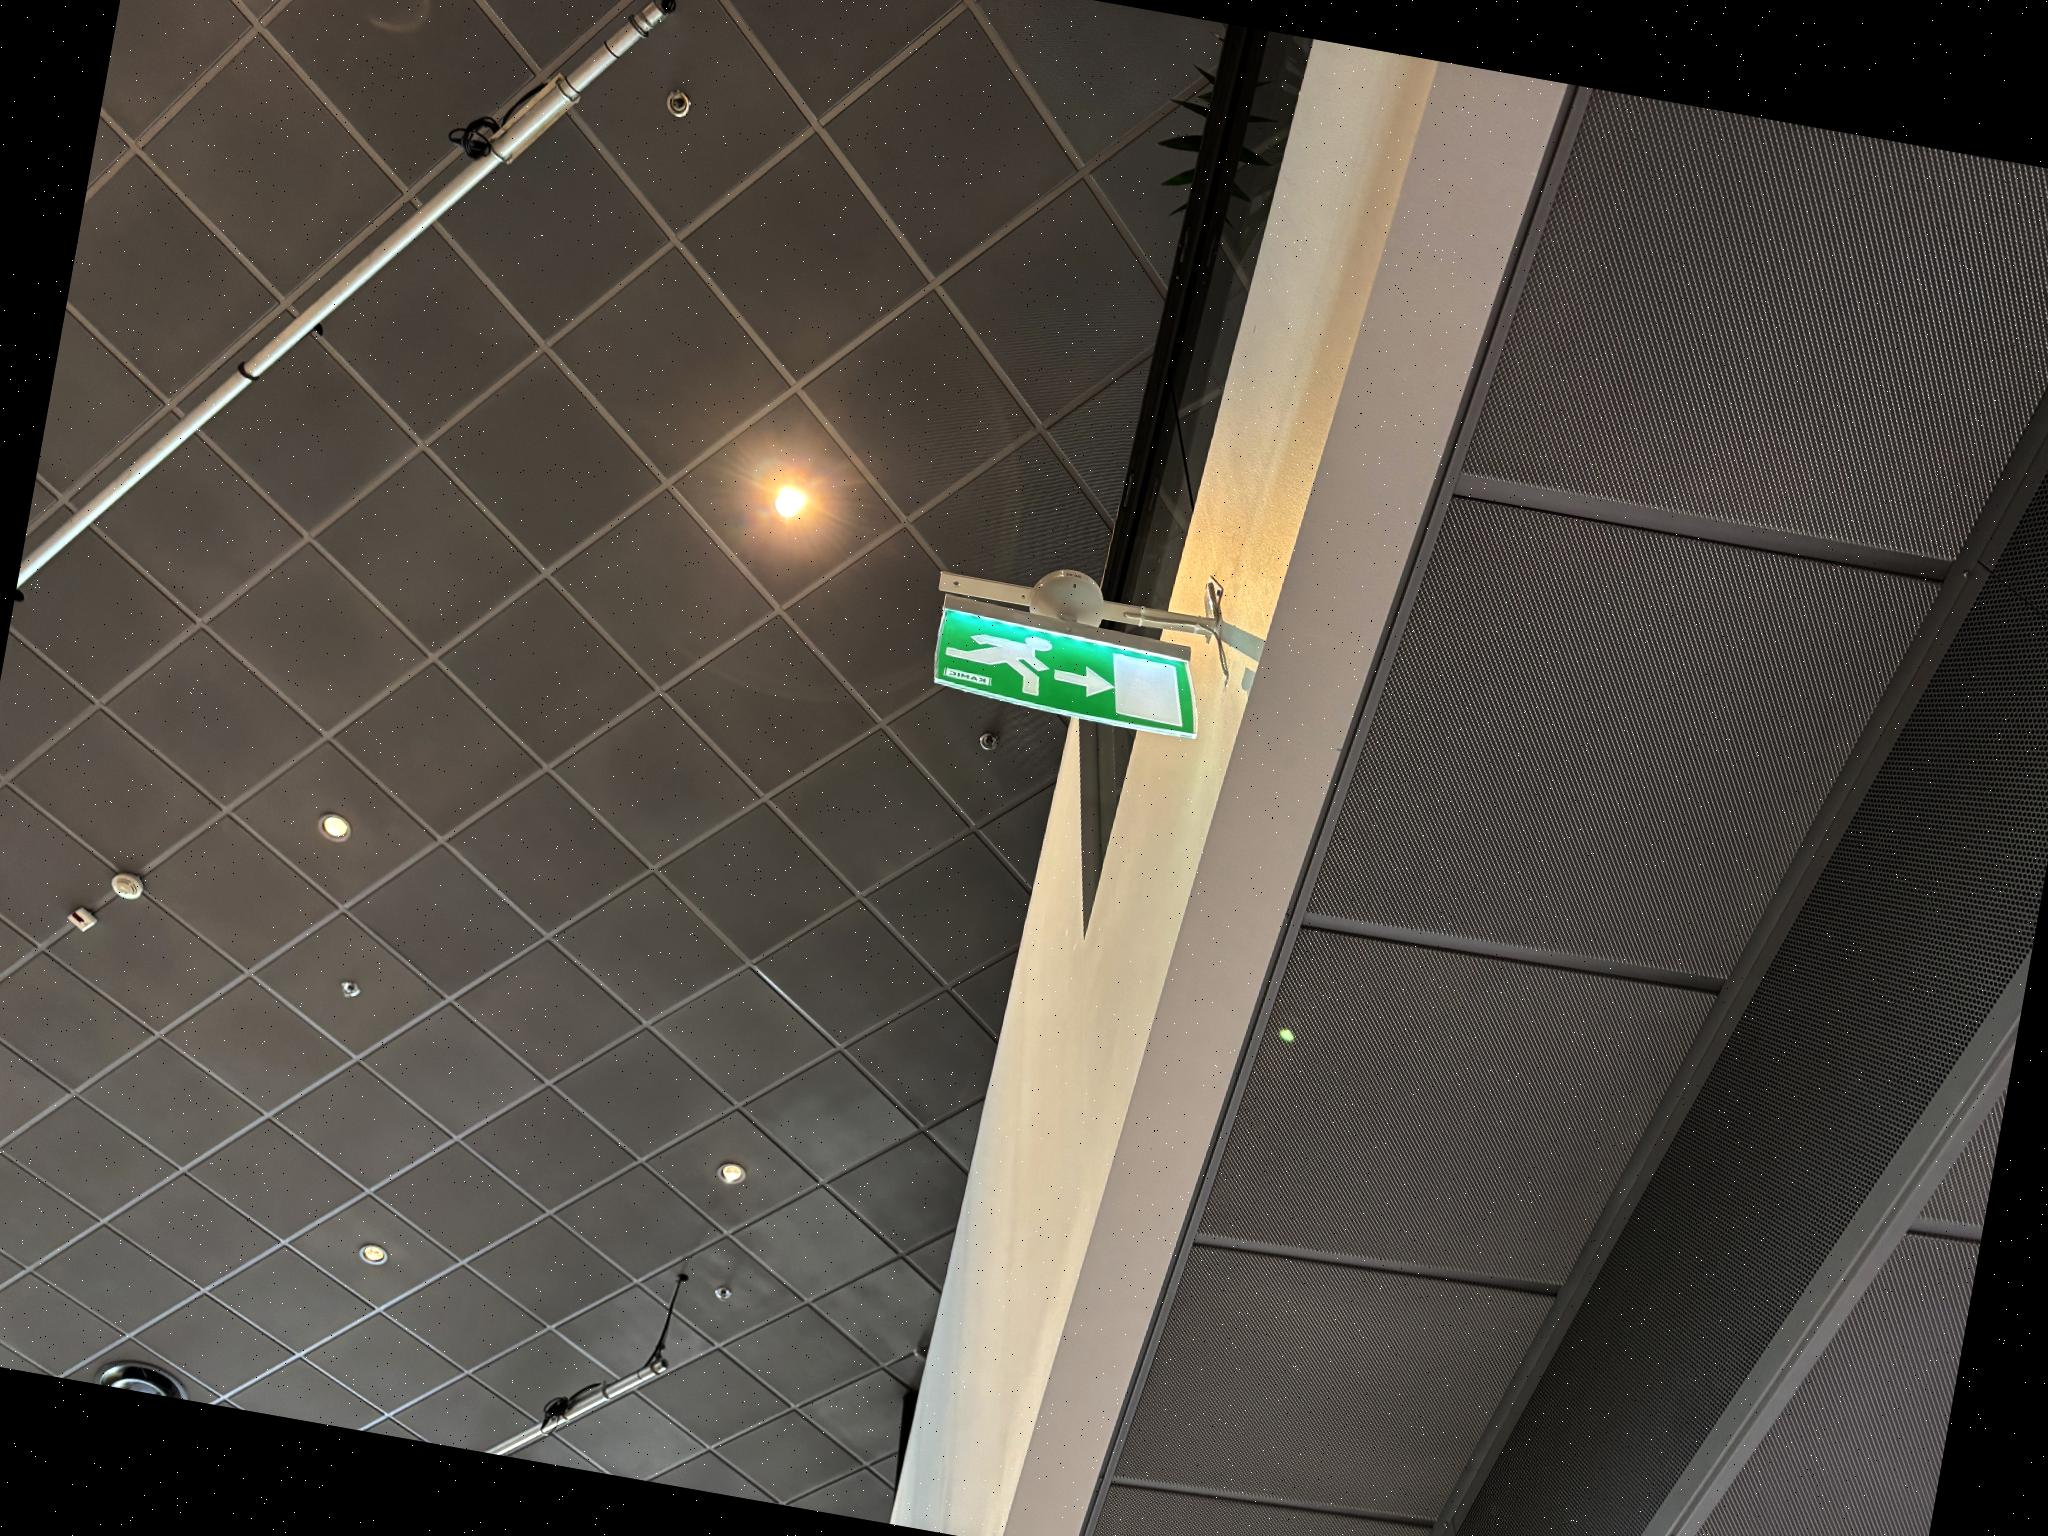exit_sign: (914, 608, 1195, 733)
